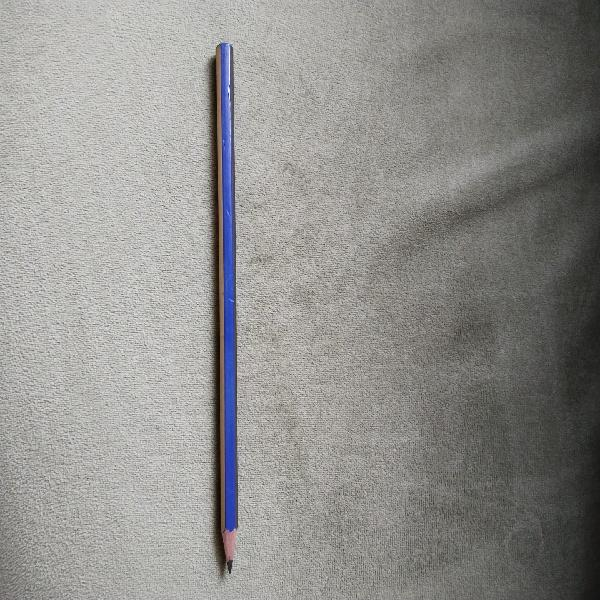pencil: (210, 41, 241, 574)
